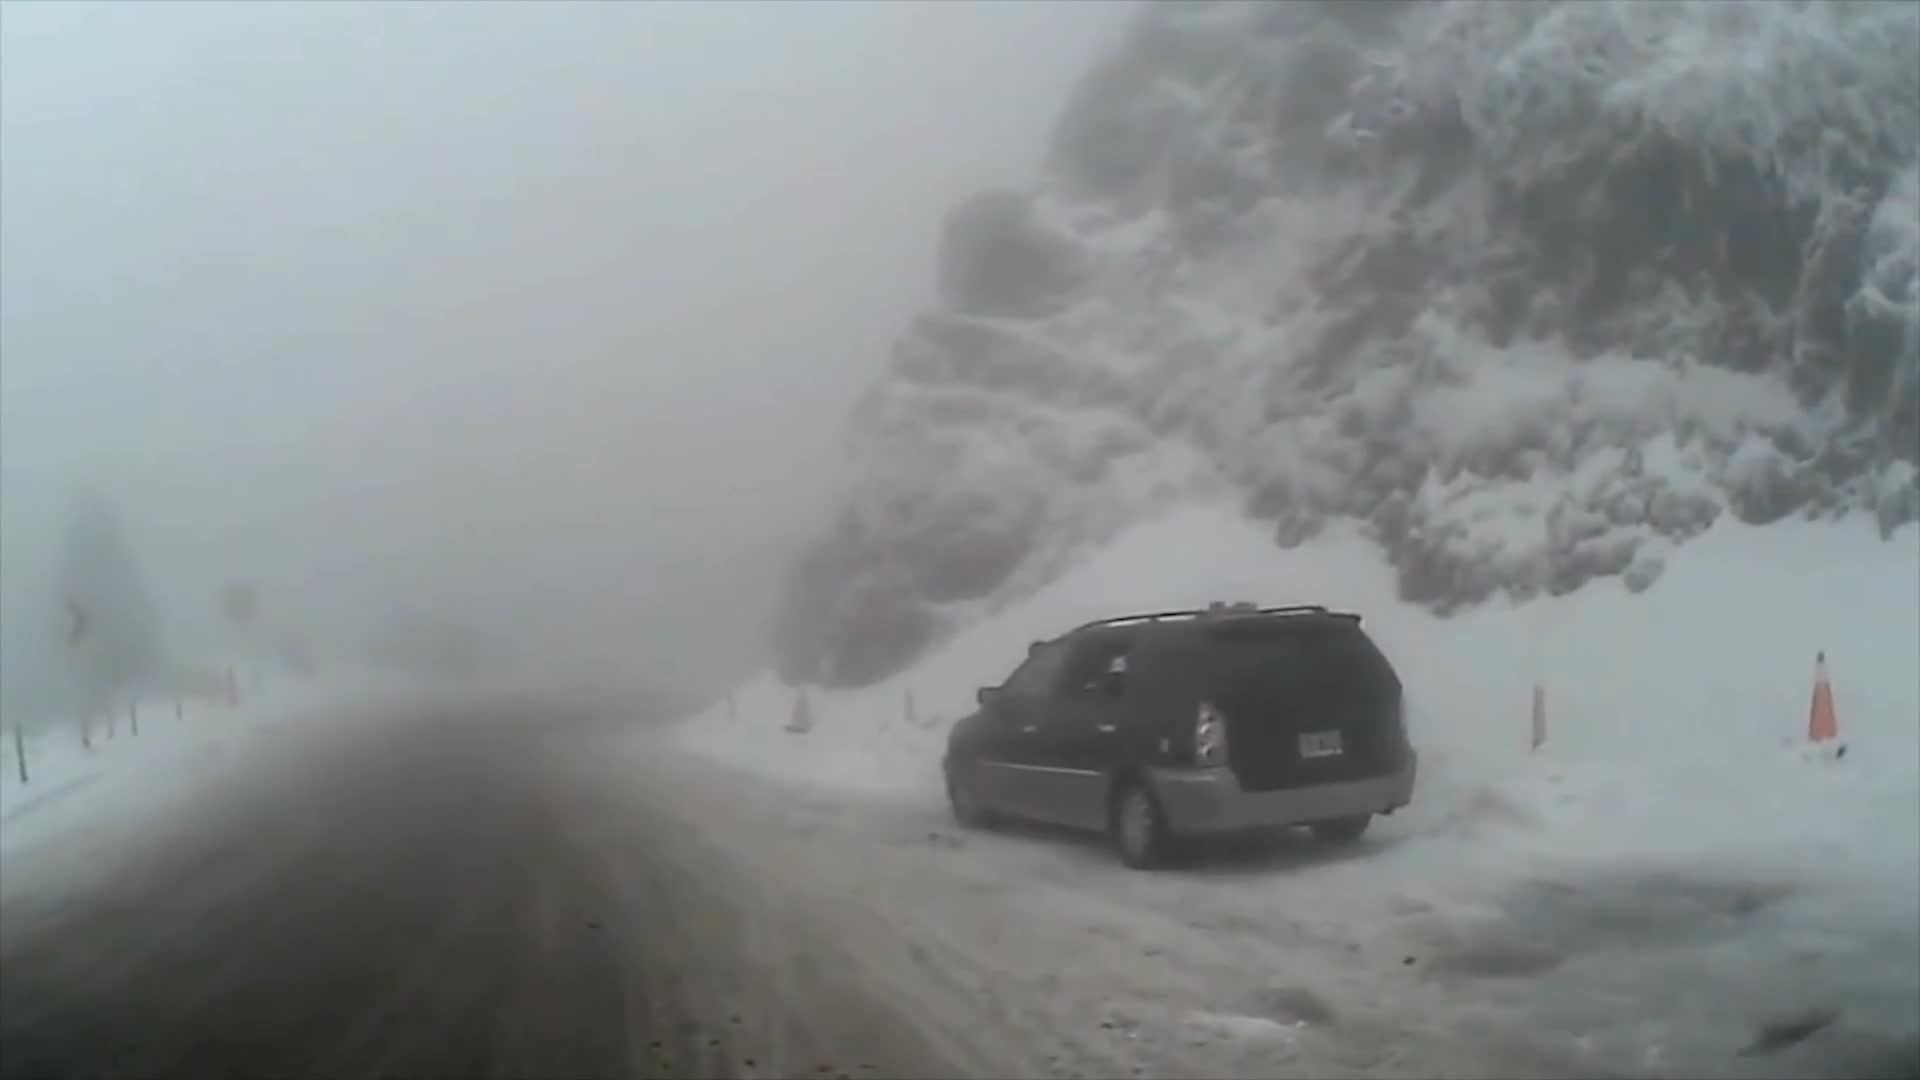vehicle: (940, 599, 1422, 869)
